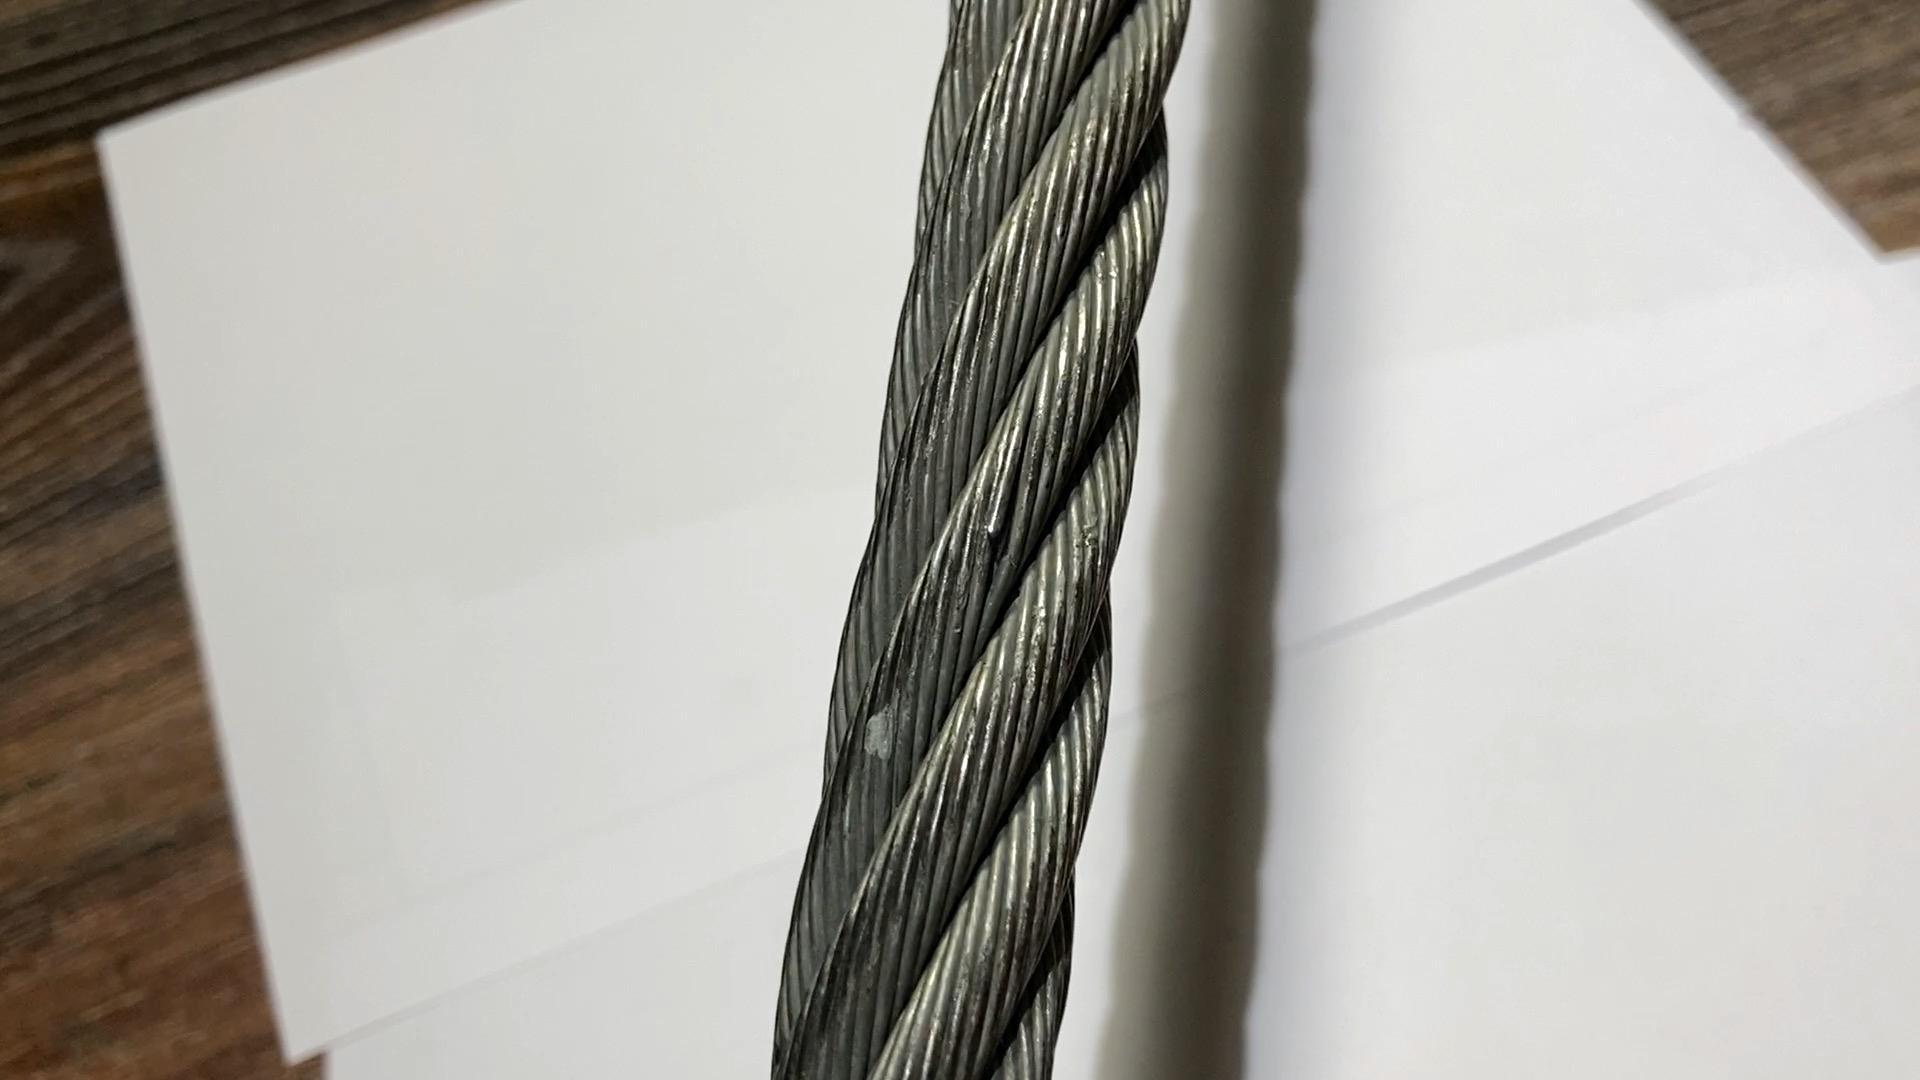break: (955, 487, 1040, 584)
